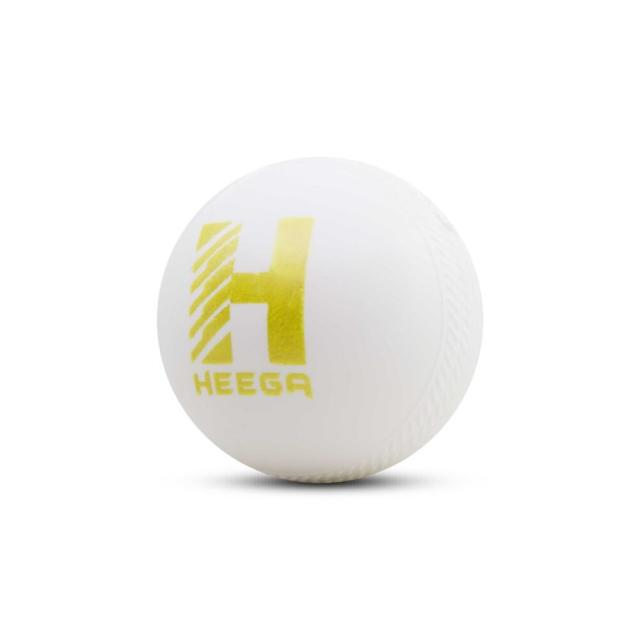ball: (153, 154, 486, 484)
